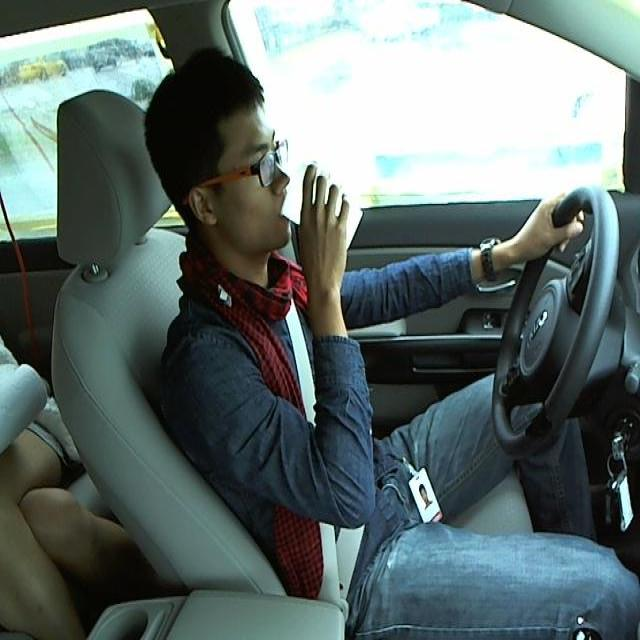Seatbelt: (281, 162, 361, 254)
